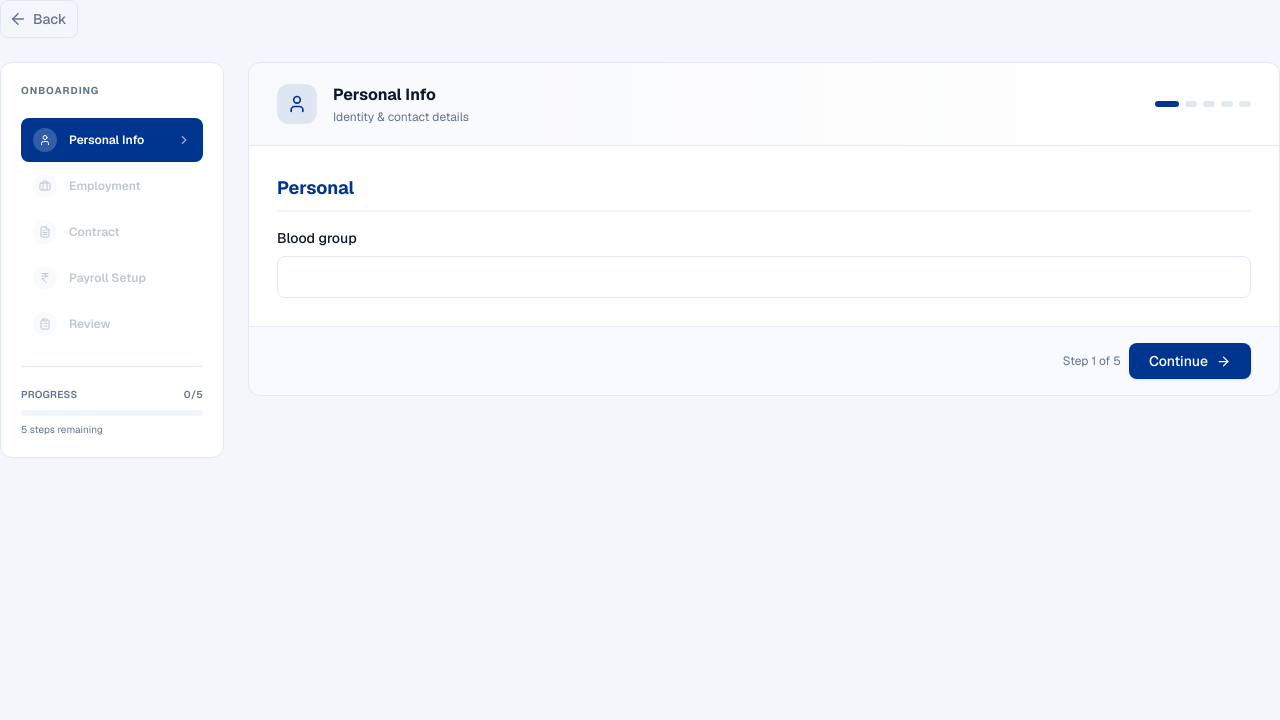
it: reaching the review step › advances through the wizard with an empty template
Step 1. Click the button with test id "onboard-next" → (1190,361), box [1129,343,1251,379]
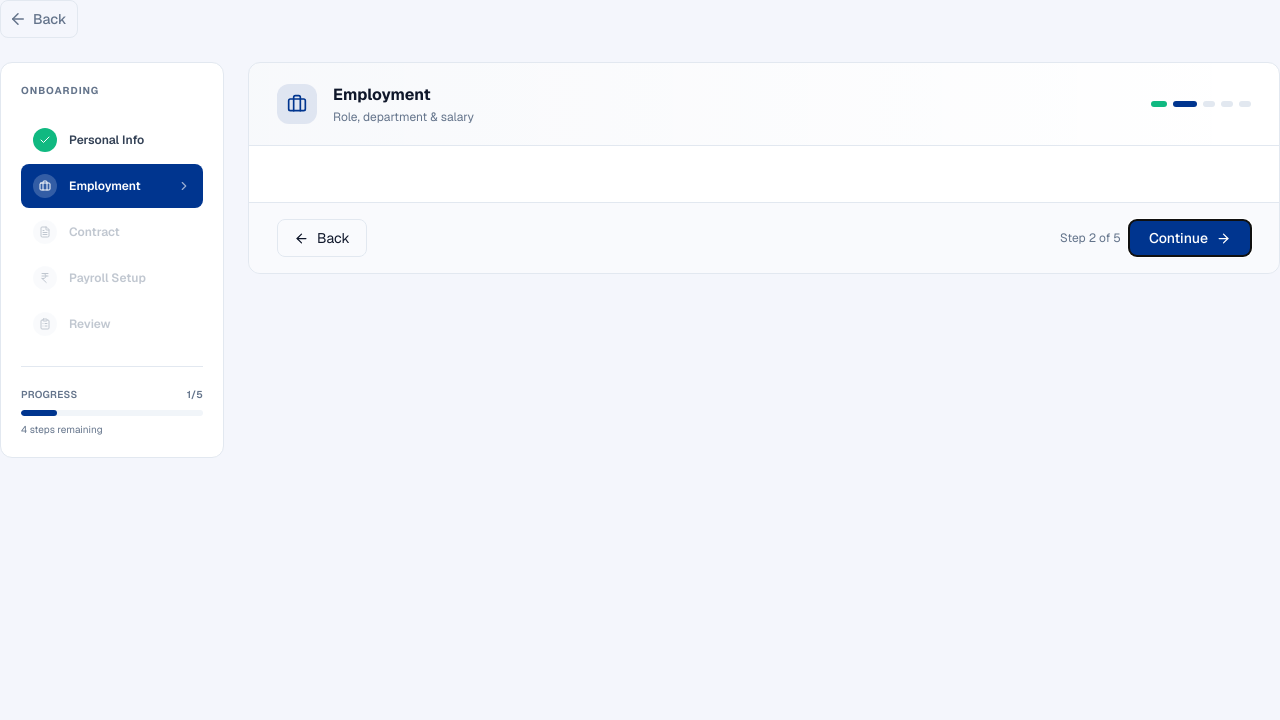
Step 2. Click the button with test id "onboard-next" → (1190,238), box [1129,220,1251,256]
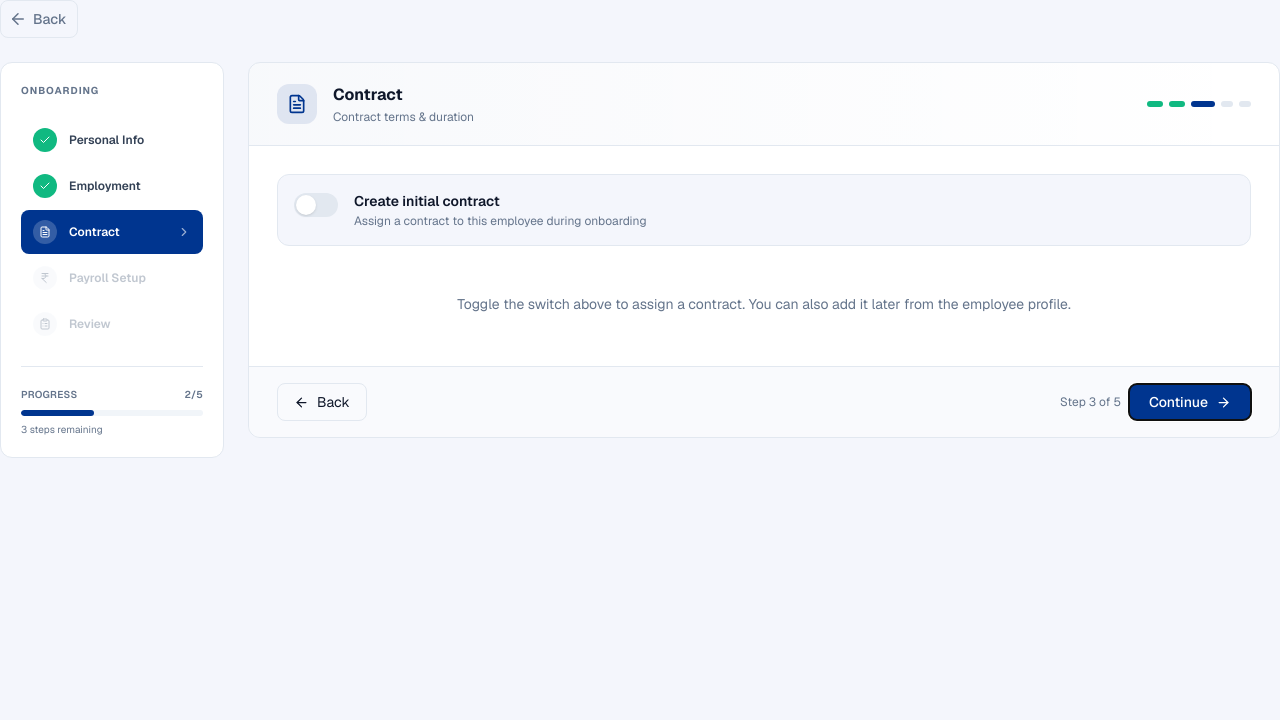
Step 3. Click the button with test id "onboard-next" → (1190,402), box [1129,384,1251,420]
(page scrolled)
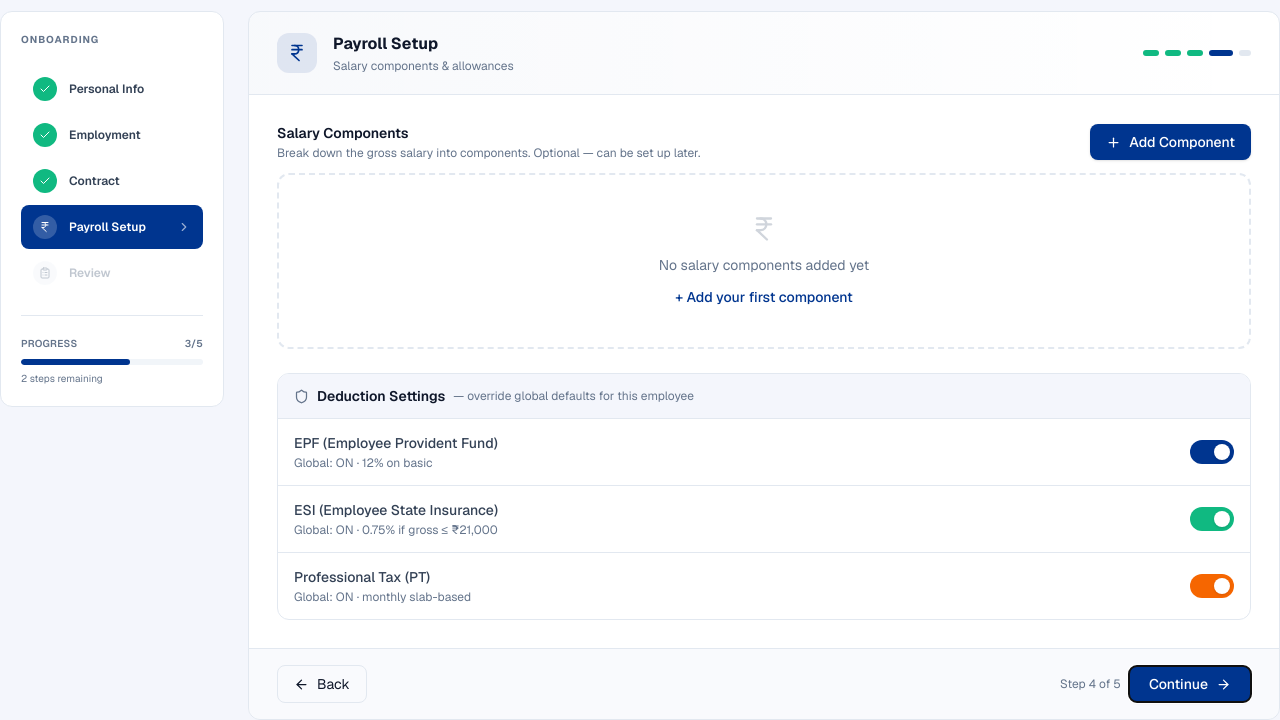
Step 4. Click the button with test id "onboard-next" → (1190,684), box [1129,666,1251,702]
(page scrolled)
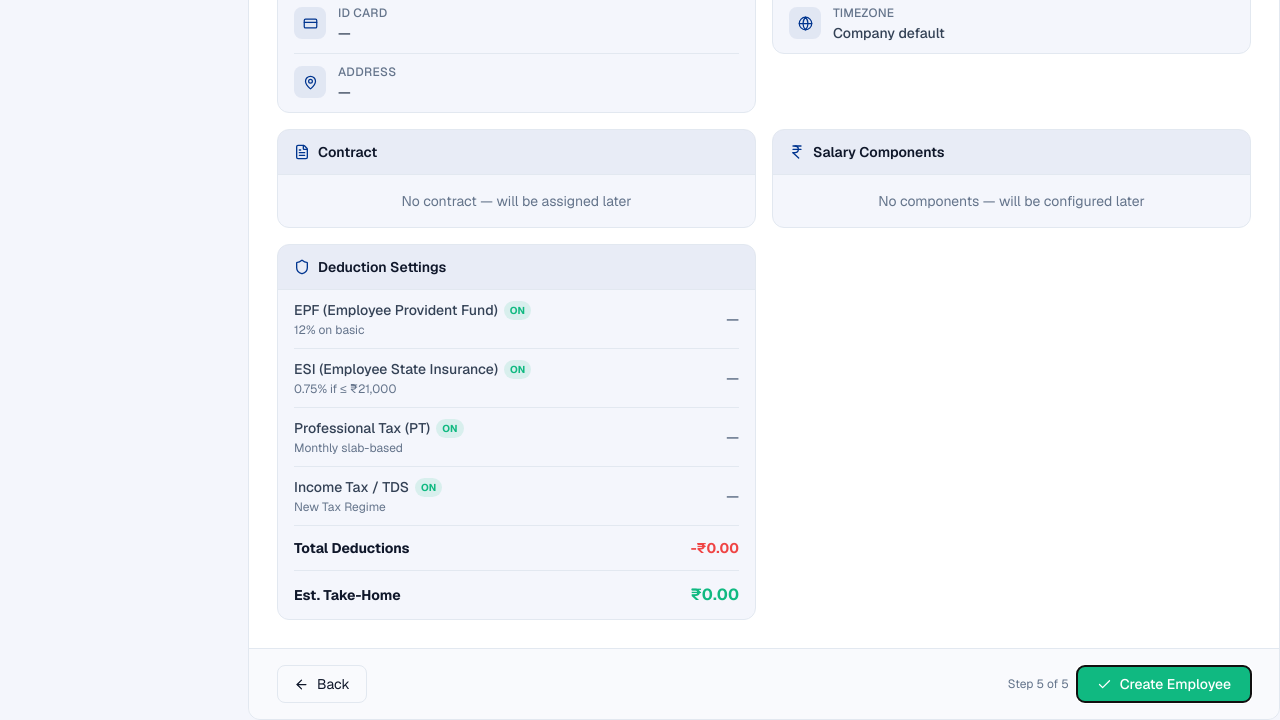
Check: the button with test id "onboard-submit" is shown, box [1077,666,1251,702]
